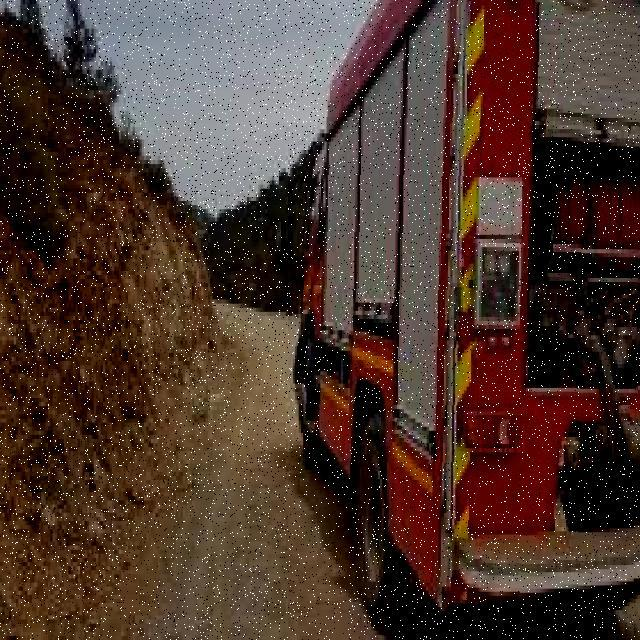pompier: (291, 0, 640, 637)
